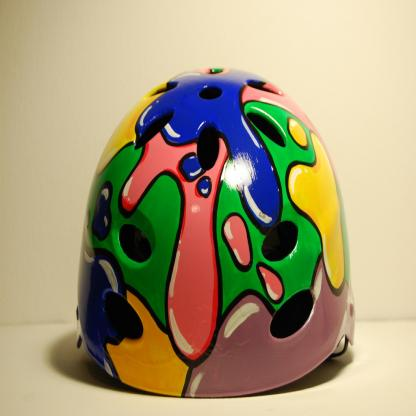Helmet: (73, 67, 359, 401)
